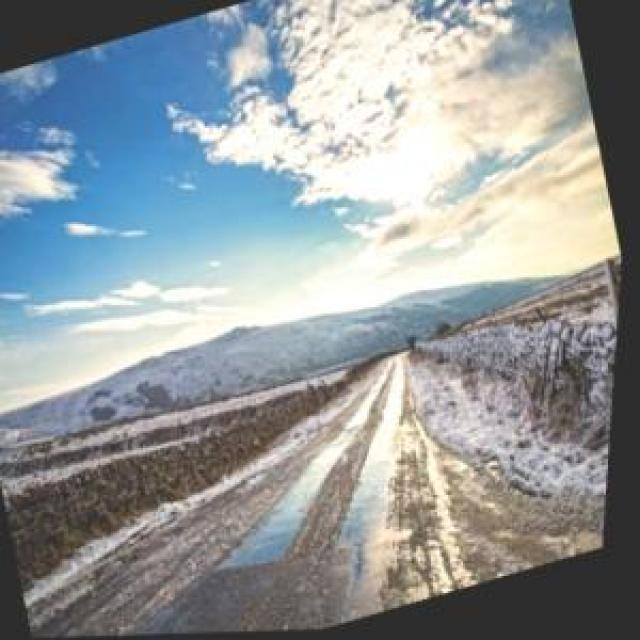ice-road: (25, 354, 604, 638)
